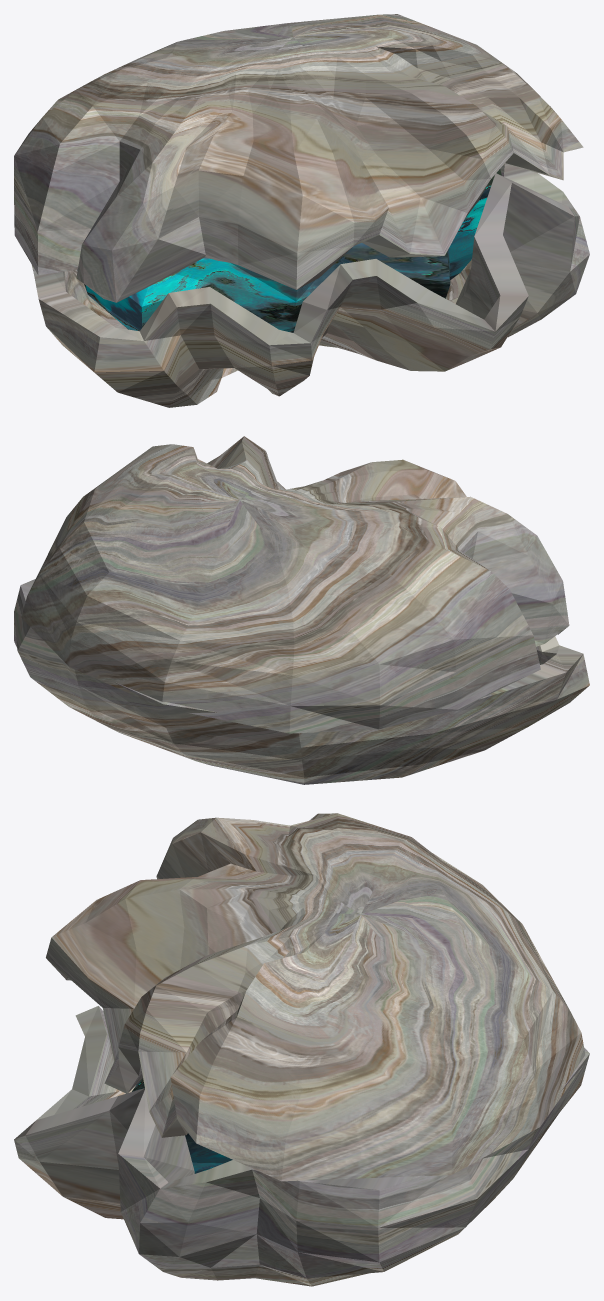
File: Almeja.fbx
3 views of the same model, one above another, from view 1: azimuth 30°, elevation 25°; view 2: azimuth 150°, elevation 25°; view 3: azimuth 270°, elevation 25° (orthographic). The views are drawn at different scales.
Visible parts, largest first — view 1: Sphere.001, Sphere, Sphere.002; view 2: Sphere.001, Sphere; view 3: Sphere.001, Sphere, Sphere.002.
Boxes of the visible parts, box(x1,y1,x2,y2) form: Sphere.001: box(14, 14, 583, 302); Sphere: box(31, 163, 589, 407); Sphere.002: box(77, 169, 501, 332); Sphere.001: box(21, 436, 569, 733); Sphere: box(14, 579, 589, 784); Sphere.001: box(46, 813, 585, 1181); Sphere: box(14, 1006, 589, 1286); Sphere.002: box(132, 1078, 232, 1173).
Bounding box in the file's own units: 318 × 157 × 270.
2 materials, 2 textured.
